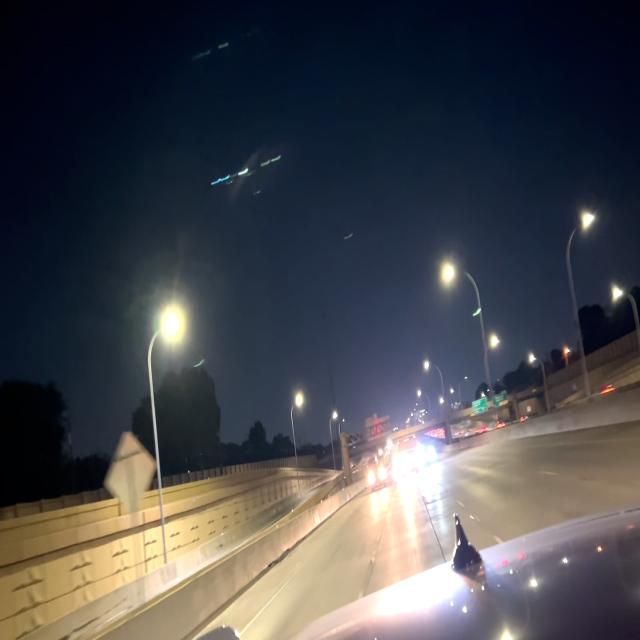back-of-sign: (103, 429, 157, 517), (365, 412, 393, 443)
